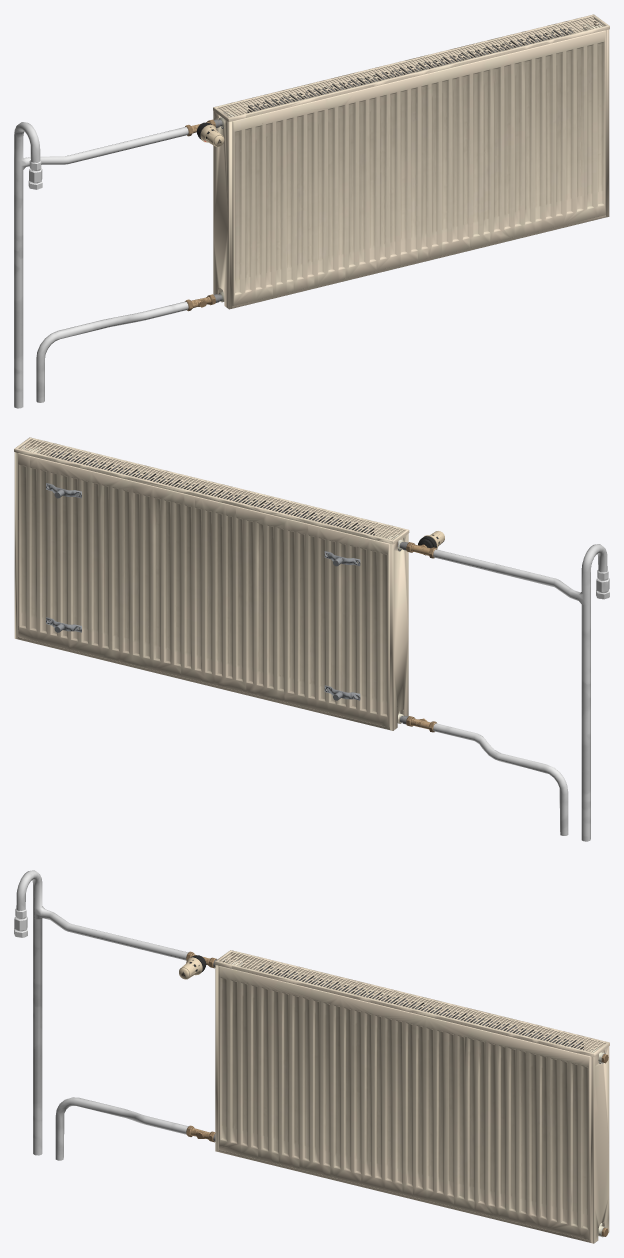
The model's file is wall_mounted_radiator.glb.
3 renders of one model, top to bottom at view 1: azimuth 30°, elevation 25°; view 2: azimuth 150°, elevation 25°; view 3: azimuth 330°, elevation 25°, orthographic.
Parts seen in each view (by area): view 1: #RDT0001_Wall_Mounted_European_Pipes_1; view 2: #RDT0001_Wall_Mounted_European_Pipes_1; view 3: #RDT0001_Wall_Mounted_European_Pipes_1.
Boxes of the visible parts, x1=… form: #RDT0001_Wall_Mounted_European_Pipes_1: x1=14, y1=14, x2=609, y2=408; #RDT0001_Wall_Mounted_European_Pipes_1: x1=14, y1=437, x2=609, y2=841; #RDT0001_Wall_Mounted_European_Pipes_1: x1=14, y1=870, x2=609, y2=1243.
Size of the model in its own units: 1.91 by 0.9008 by 0.1918.
3 materials, 3 textured.
